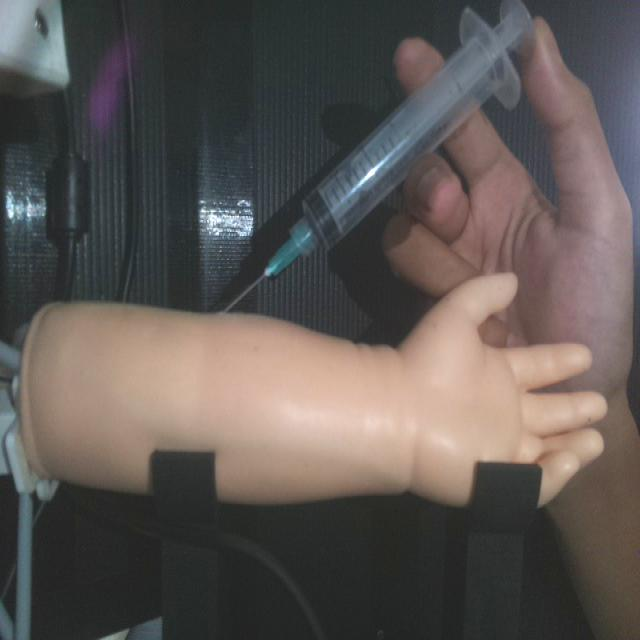Above 30 degrees: (220, 0, 538, 317)
